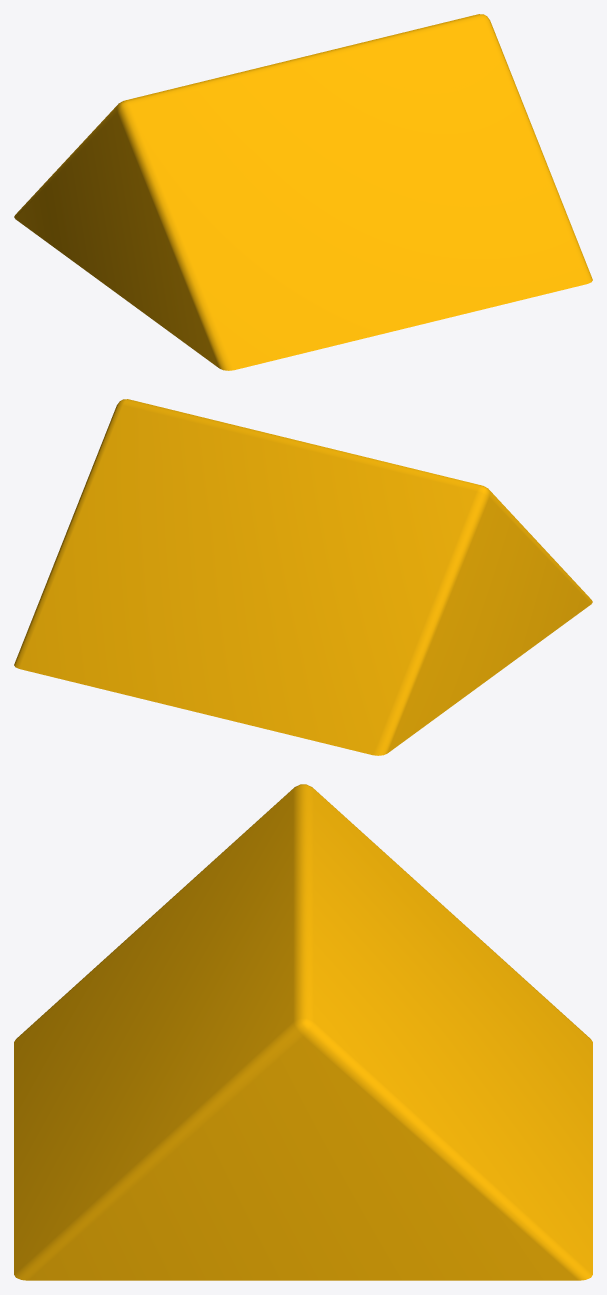
File: Roof_Half.fbx
3 views of the same model, one above another, from view 1: azimuth 30°, elevation 25°; view 2: azimuth 150°, elevation 25°; view 3: azimuth 270°, elevation 25° (orthographic). The views are drawn at different scales.
Parts seen in each view (by area): view 1: Roof_Half; view 2: Roof_Half; view 3: Roof_Half.
Boxes of the visible parts, x1,y1,x2,y2 form: Roof_Half: [14, 14, 592, 370]; Roof_Half: [14, 399, 592, 755]; Roof_Half: [14, 784, 592, 1280].
Bounding box in the file's own units: 1 × 0.4887 × 1.
